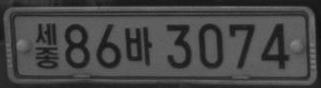0: (197, 23, 224, 69)
3: (165, 23, 192, 68)
4: (260, 23, 290, 70)
6: (96, 24, 121, 69)
7: (228, 23, 256, 69)
8: (63, 23, 90, 69)
바: (124, 26, 152, 66)
세종_V: (35, 22, 58, 69)
